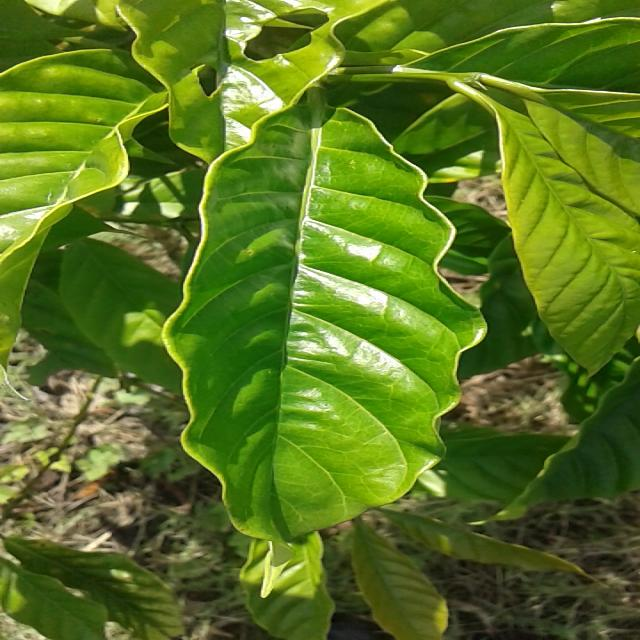Sanas: (161, 104, 488, 546)
